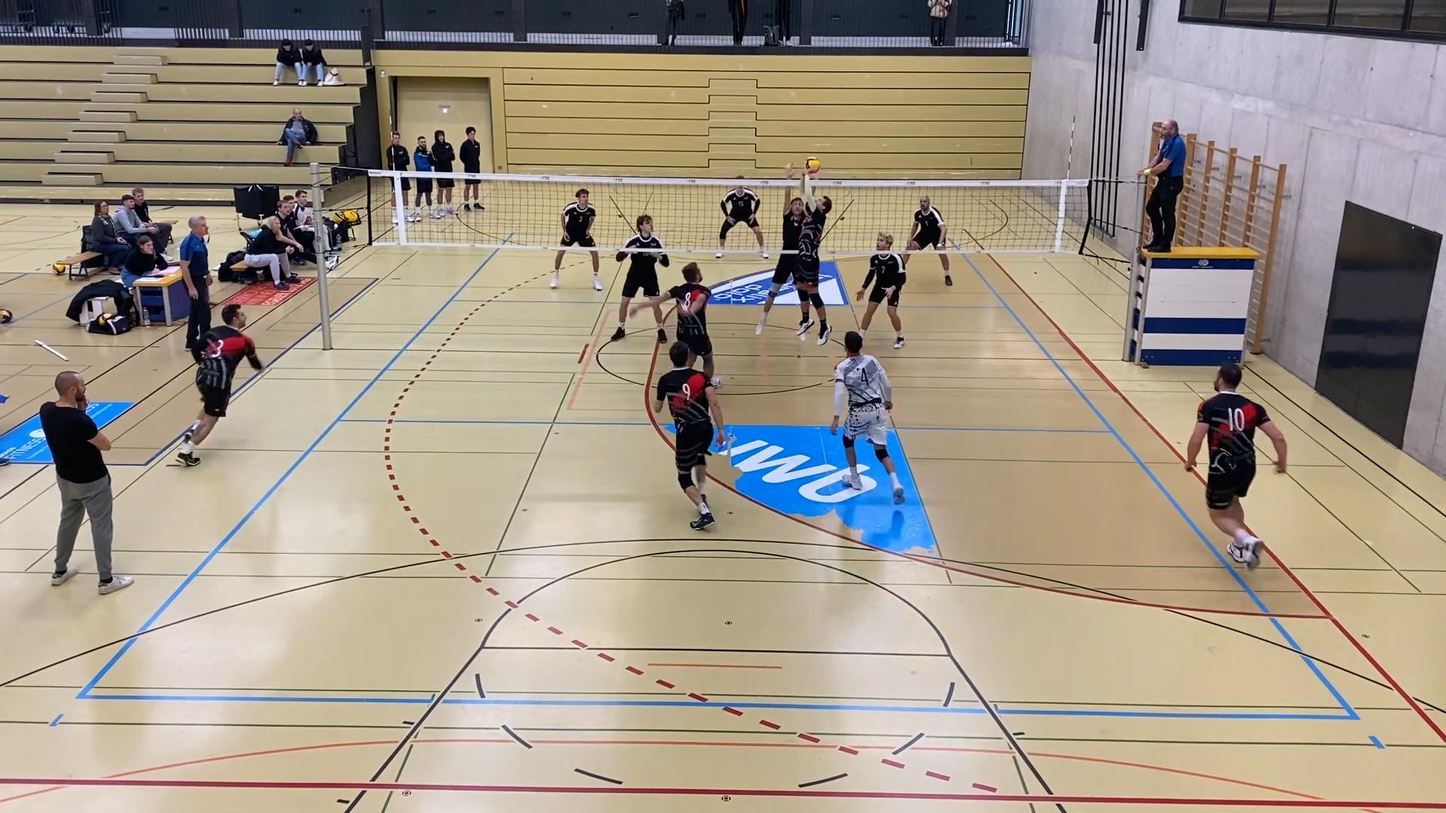alzata: (792, 172, 838, 349)
muro: (752, 160, 812, 339)
